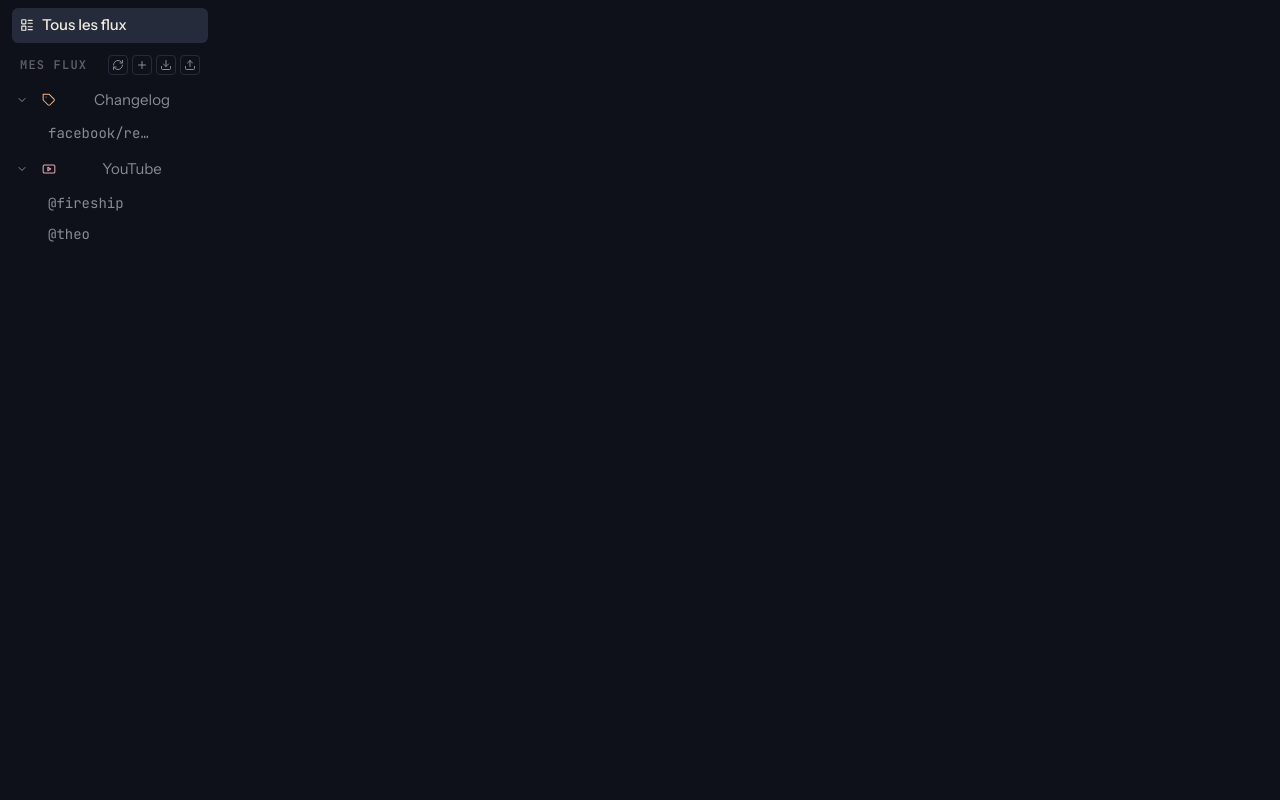
Test: adding a feed › opens and closes the add-flux dialog
The width and height of the screenshot is (1280, 800).
What coordinates should you click on to do the following:
click the button named "Ajouter un flux"
I would click on:
 (142, 64)
Its box is [132,54,152,74].
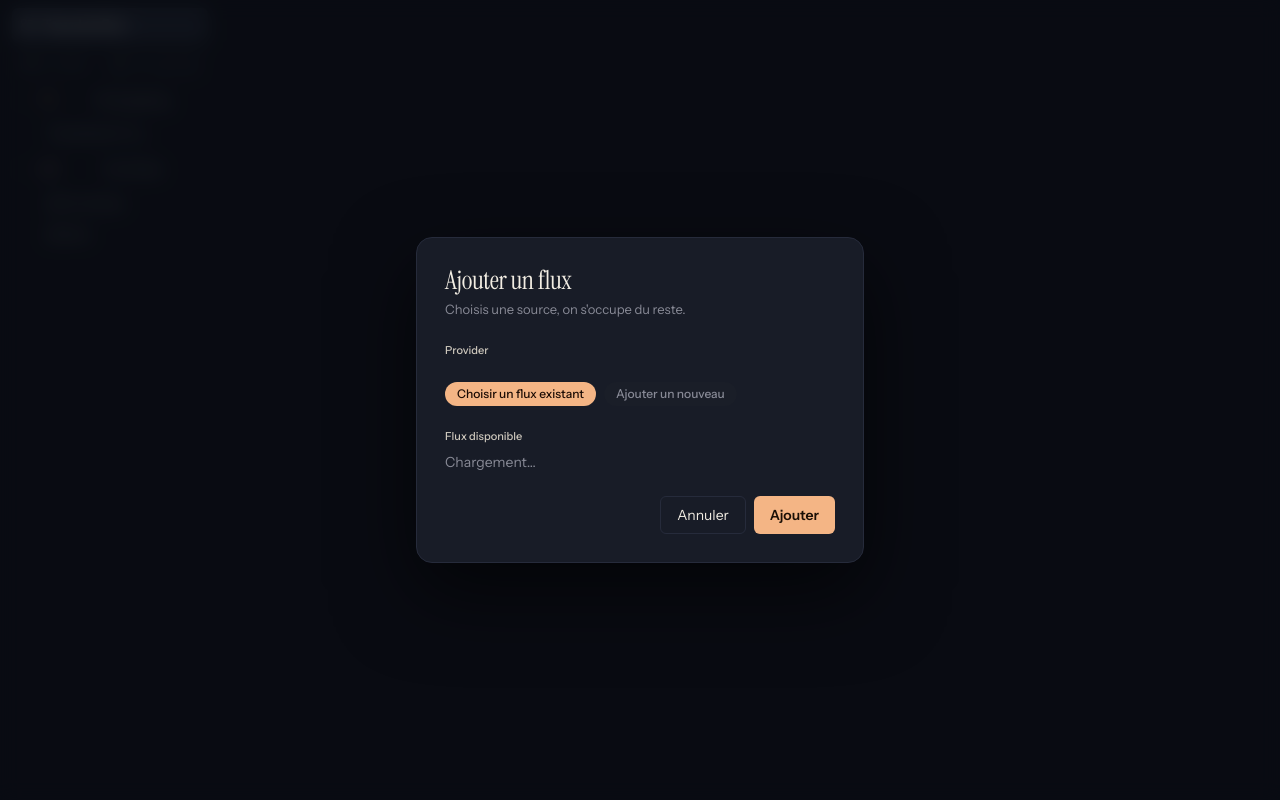
expect the text "Provider" is shown: met, box [445,343,488,357]
What coordinates should you click on to do the following:
click the element with test id "dialog-backdrop"
I would click on:
 (77, 400)
Its box is [0,0,1279,799].
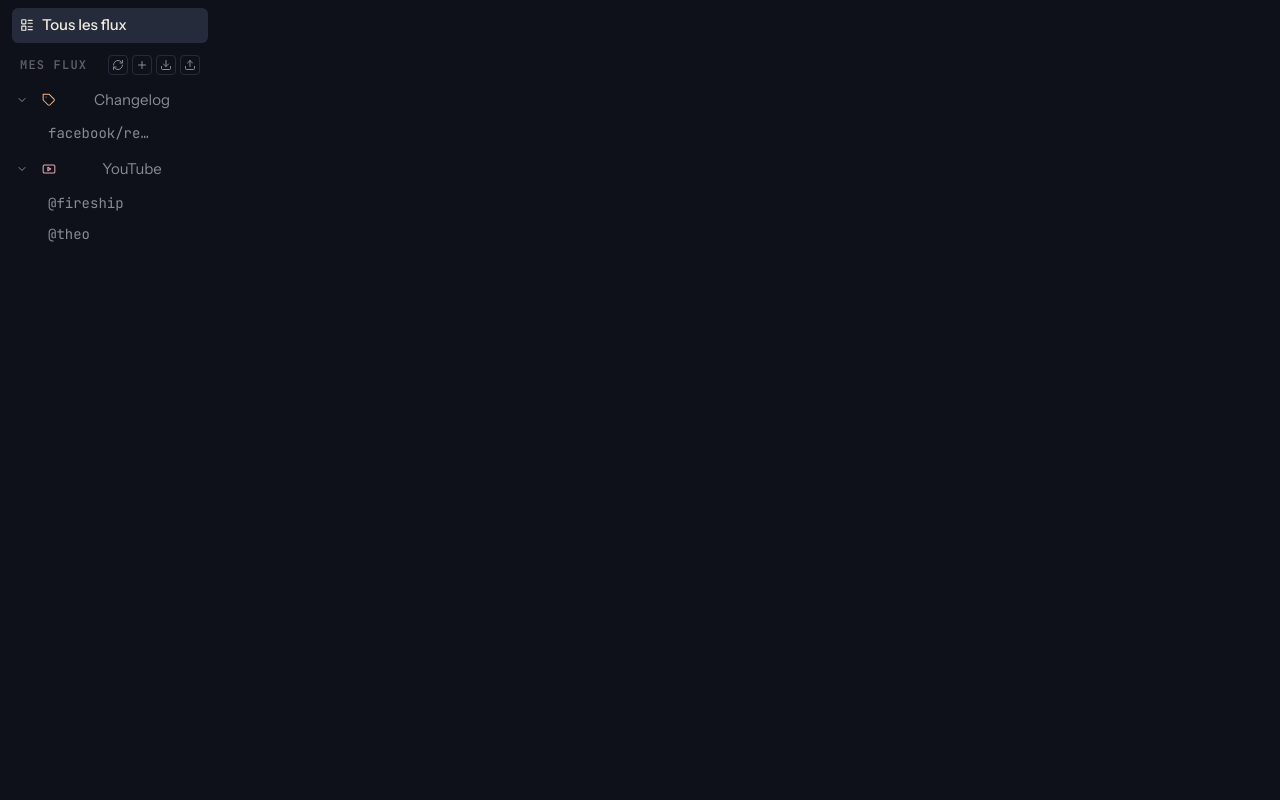
expect the text "Provider" is gone: met
